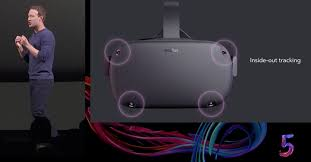oculus: (106, 36, 239, 118)
